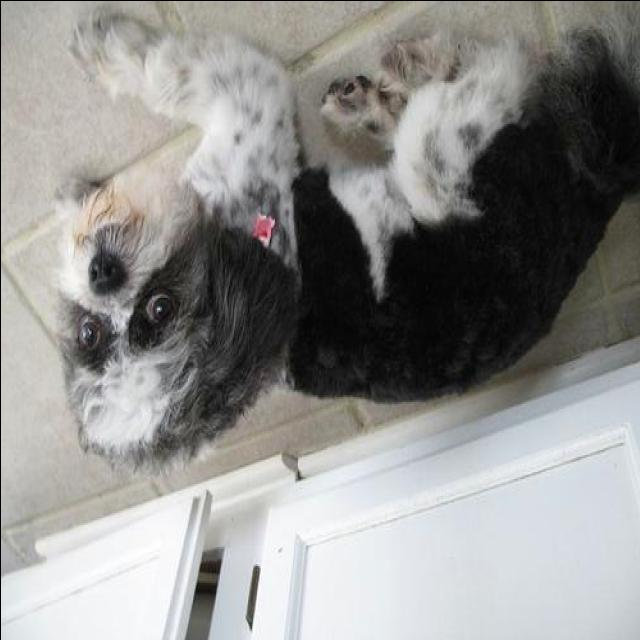shih_tzu: (47, 10, 639, 480)
